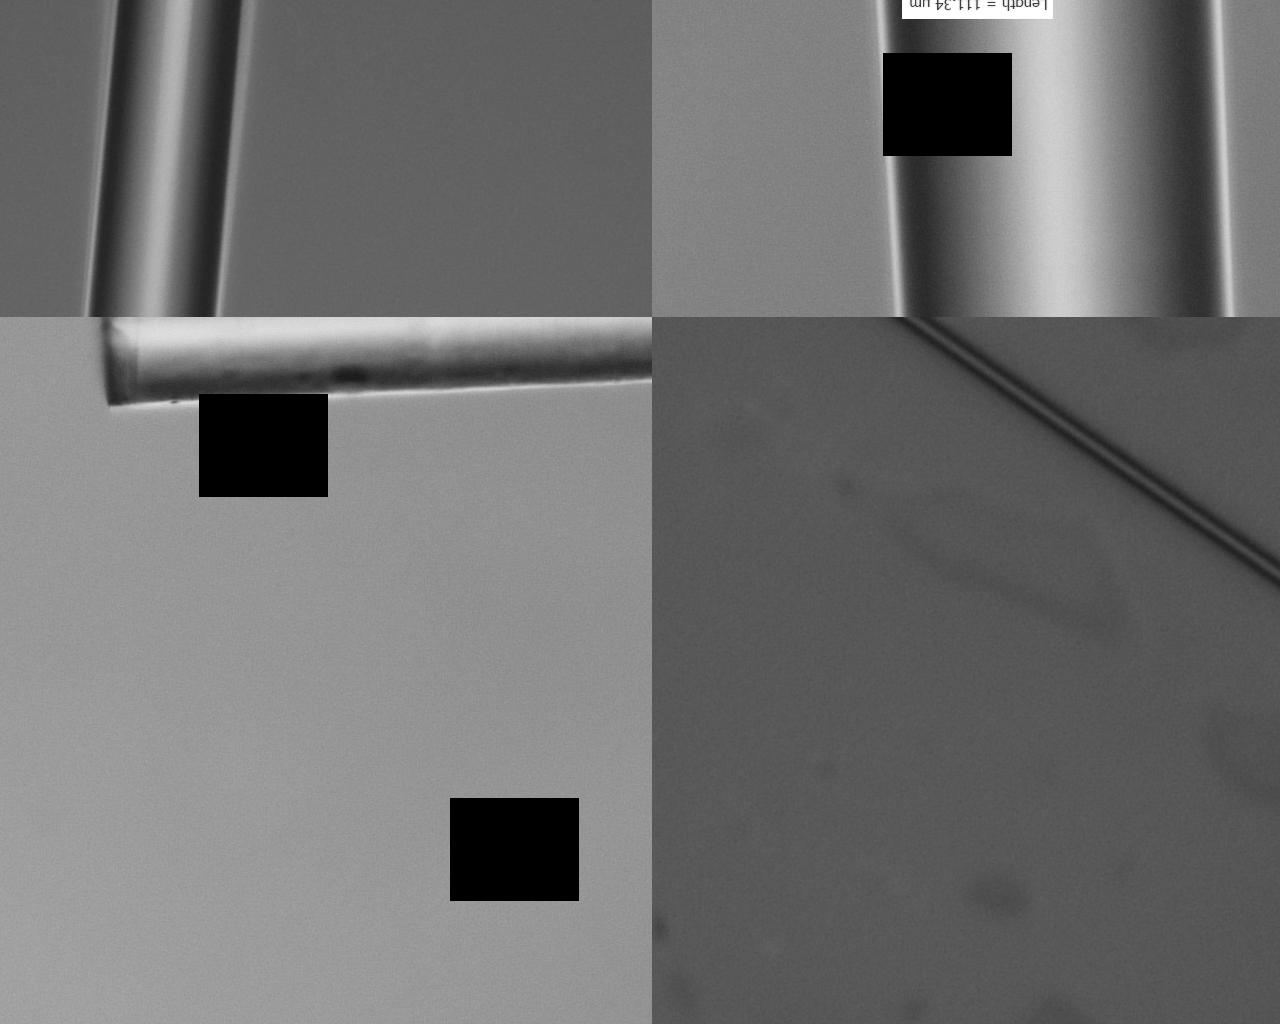fiber: (859, 0, 1219, 798), (211, 0, 503, 798), (931, 798, 1255, 1024)
